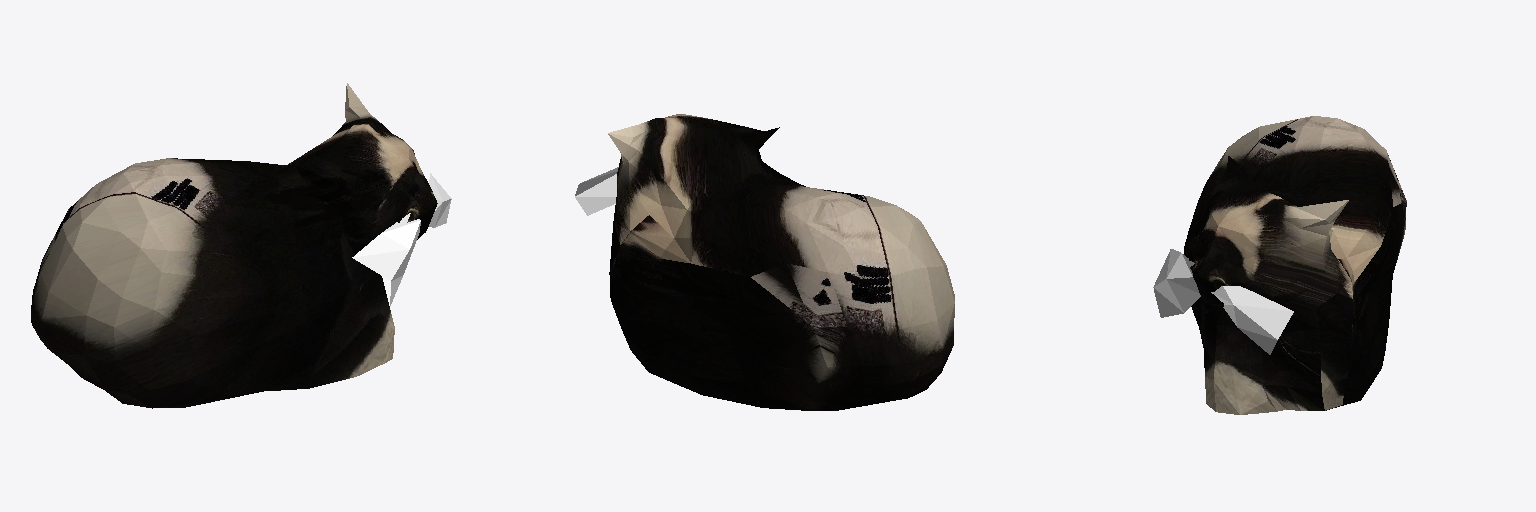
3 renders of one model, left to right at view 1: azimuth 30°, elevation 25°; view 2: azimuth 150°, elevation 25°; view 3: azimuth 270°, elevation 25°, orthographic.
Visible parts, largest first — view 1: obj1, obj2; view 2: obj1, obj2; view 3: obj1, obj2.
Boxes of the visible parts, x1=… form: obj1: x1=31, y1=83, x2=437, y2=408; obj2: x1=352, y1=173, x2=451, y2=305; obj1: x1=608, y1=114, x2=954, y2=410; obj2: x1=575, y1=167, x2=618, y2=215; obj1: x1=1184, y1=116, x2=1406, y2=414; obj2: x1=1153, y1=249, x2=1293, y2=354.
Size of the model in its own units: 33.23 by 19.21 by 18.75.
Materials: 2 (1 with a texture image).